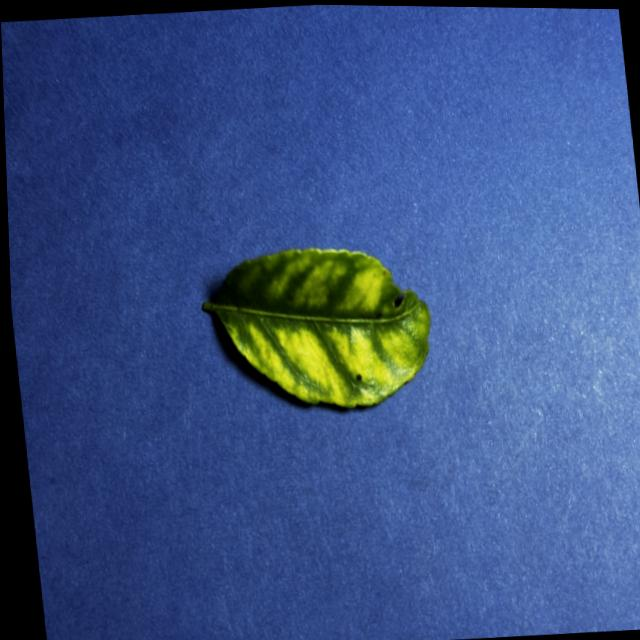greening: (202, 248, 428, 407)
